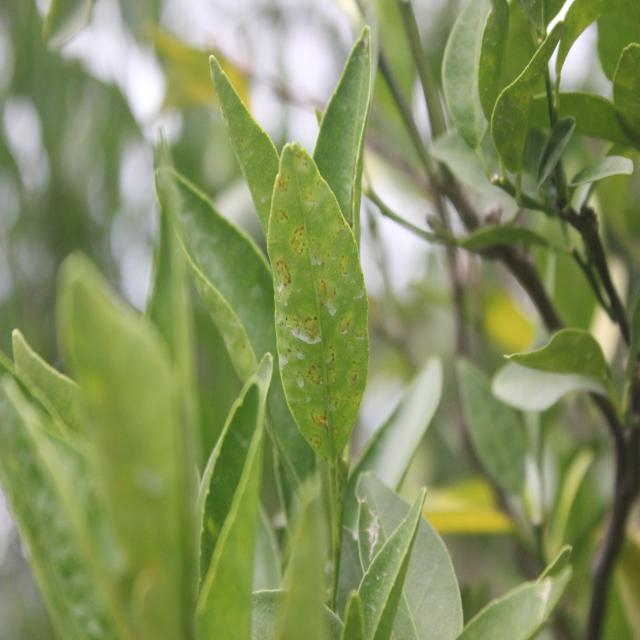canker: (272, 156, 359, 456)
